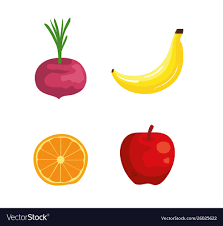banana: (110, 28, 185, 95)
onion: (34, 19, 86, 99)
